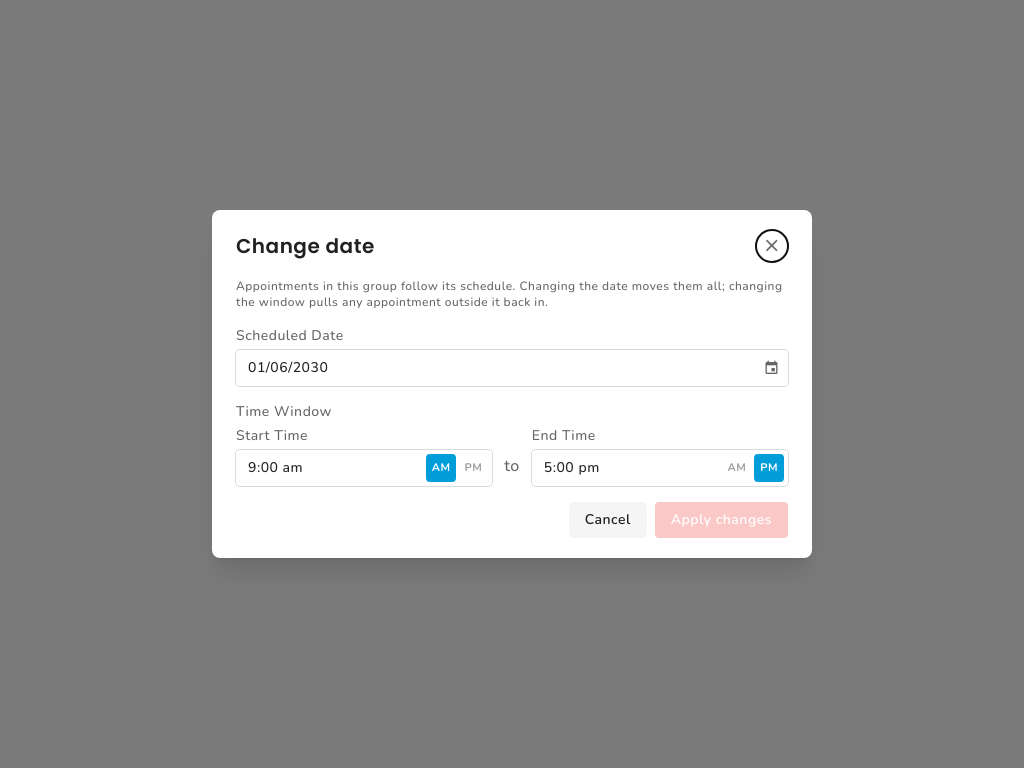
Test: RescheduleGroupModal › promises unchanged time slots on a date-only change
Replace the text in the field named "Scheduled date" with "2030-07-20": (498, 368) [236,350,760,386]
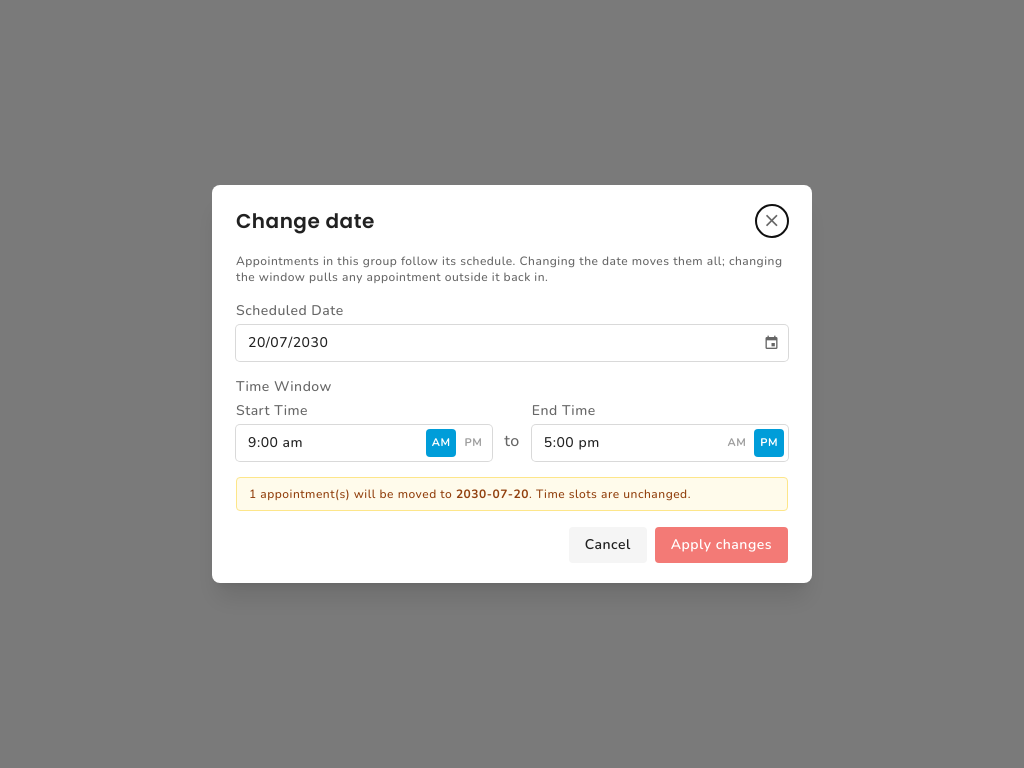
expect the message with test id "reschedule-group-date-warning" shows "Time slots are unchanged": met, box [532,486,691,502]
